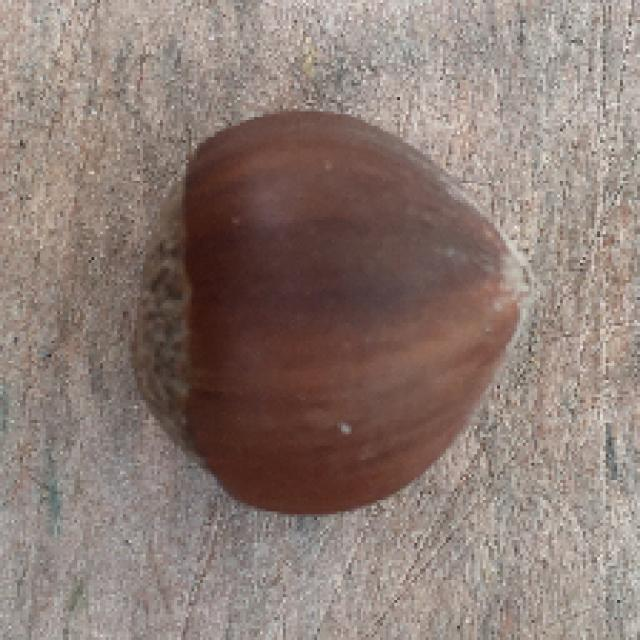damagedHazelnut: (126, 108, 540, 521)
